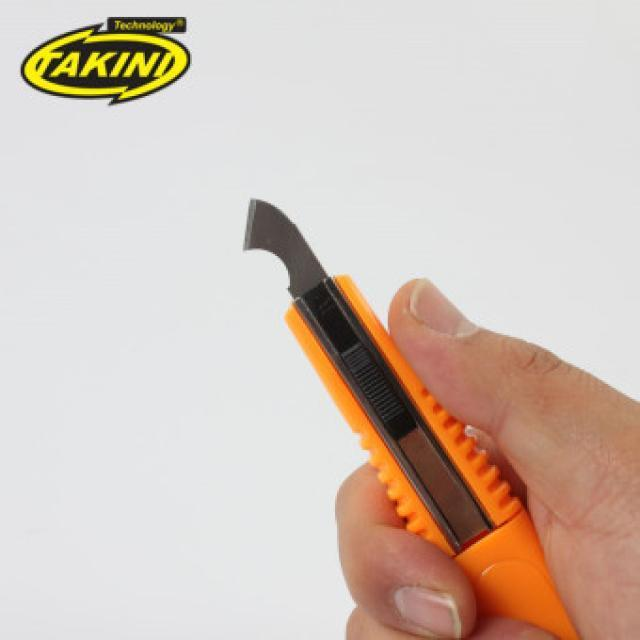cutter: (228, 174, 600, 640)
